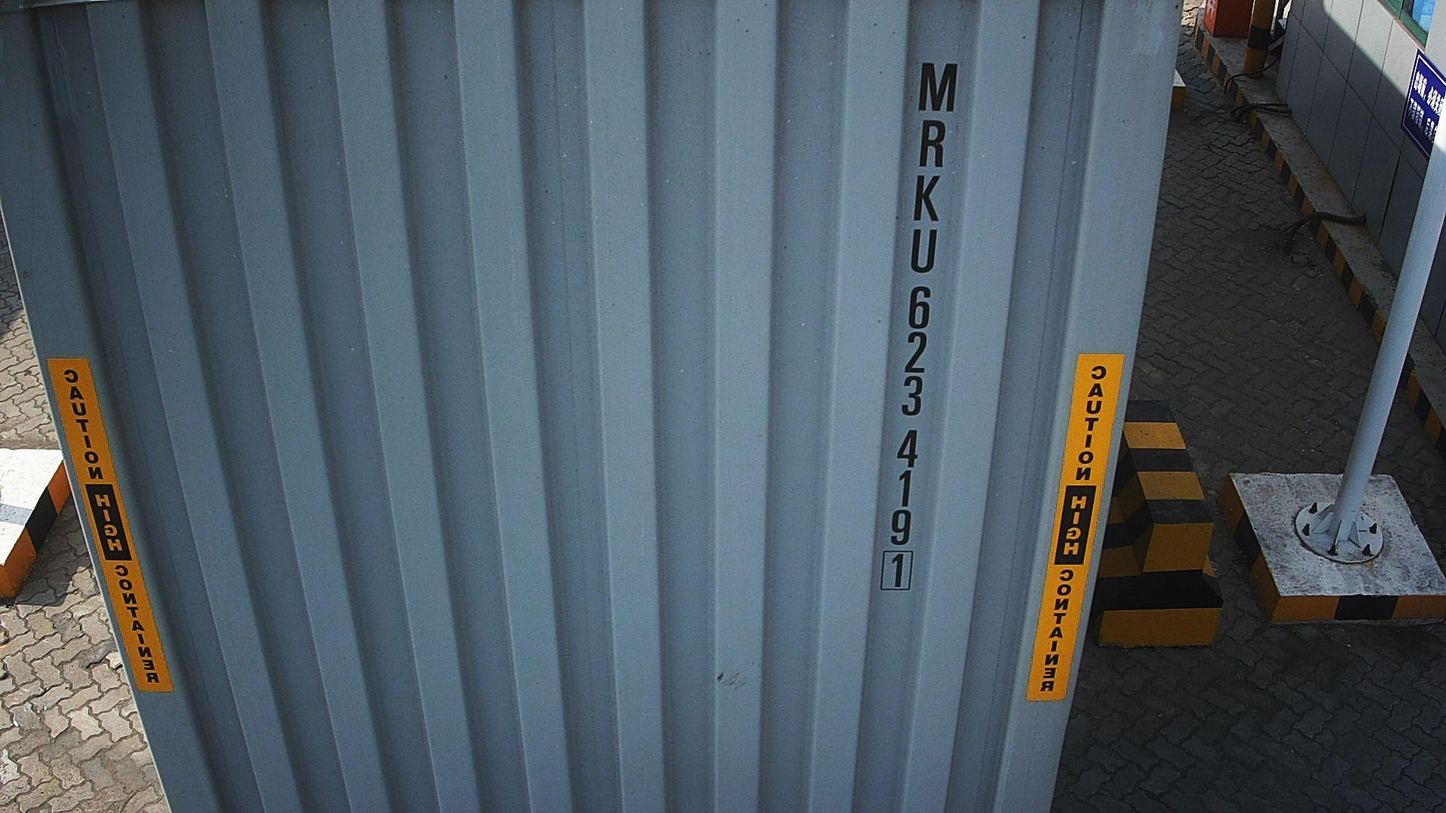container-numbers: (877, 54, 963, 601)
